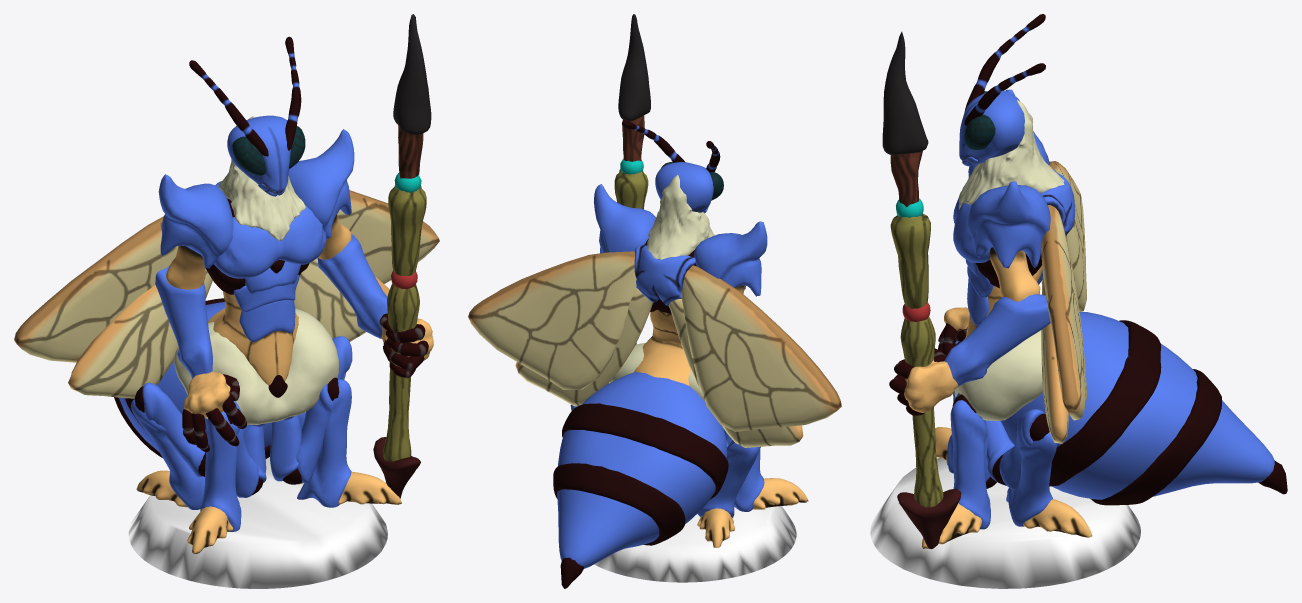
The model's file is Wasp_warrior_Rev02_Fbx_Rev01_Blue.fbx.
3 views of the same model, side by side, from view 1: azimuth 30°, elevation 25°; view 2: azimuth 150°, elevation 25°; view 3: azimuth 270°, elevation 25° (orthographic). The views are drawn at different scales.
Parts seen in each view (by area): view 1: Merged_WW_Spear_Low; view 2: Merged_WW_Spear_Low; view 3: Merged_WW_Spear_Low.
Part boxes in pixels (left/top/right/bottom): Merged_WW_Spear_Low: left=14, top=14, right=439, bottom=588; Merged_WW_Spear_Low: left=468, top=14, right=841, bottom=588; Merged_WW_Spear_Low: left=870, top=14, right=1287, bottom=588.
Size of the model in its own units: 32.01 by 38.37 by 26.21.
1 material, 1 textured.
